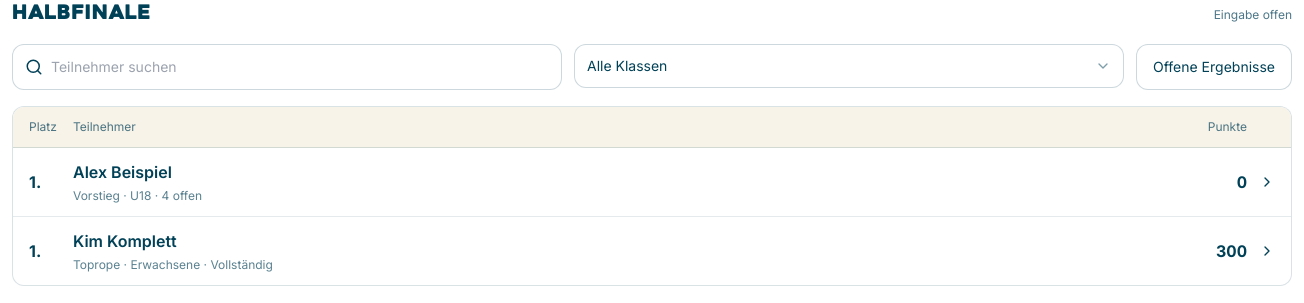
Test: participant-first semifinal administration › finds participants across classes and filters only genuinely open entries
The width and height of the screenshot is (1304, 303).
In the field labelled "Teilnehmer suchen": (300, 67) [51, 45, 549, 89], type "kim"
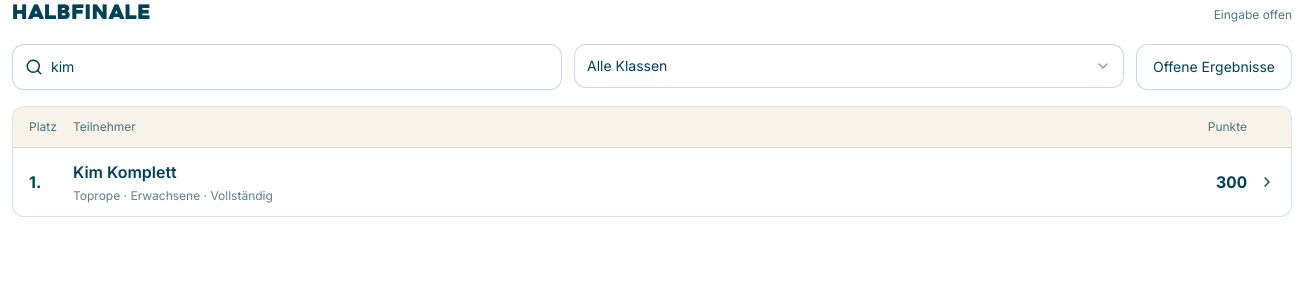
Expected: the button "1. Kim Komplett Toprope · Erwachsene · Vollständig 300" is shown, [13, 148, 1291, 216]
Expected: the button "Alex Beispiel" is gone
Clear the field named "Teilnehmer suchen": (300, 67) [51, 45, 549, 89]
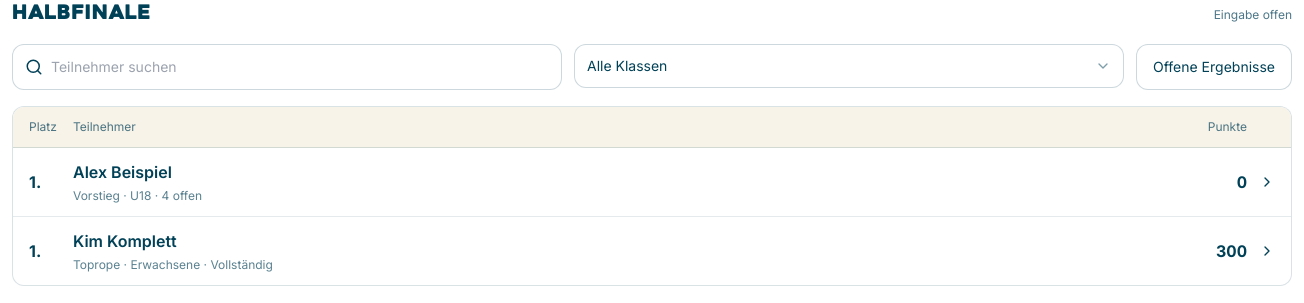
Click the button "Offene Ergebnisse": (1214, 67) [1136, 44, 1292, 90]
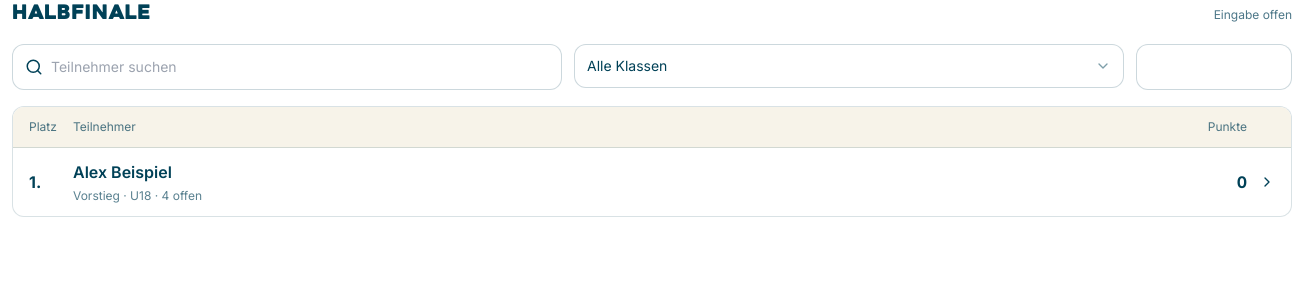
Expected: the button "1. Alex Beispiel Vorstieg · U18 · 4 offen 0" is shown, [13, 148, 1291, 216]
Expected: the button "Kim Komplett" is gone
